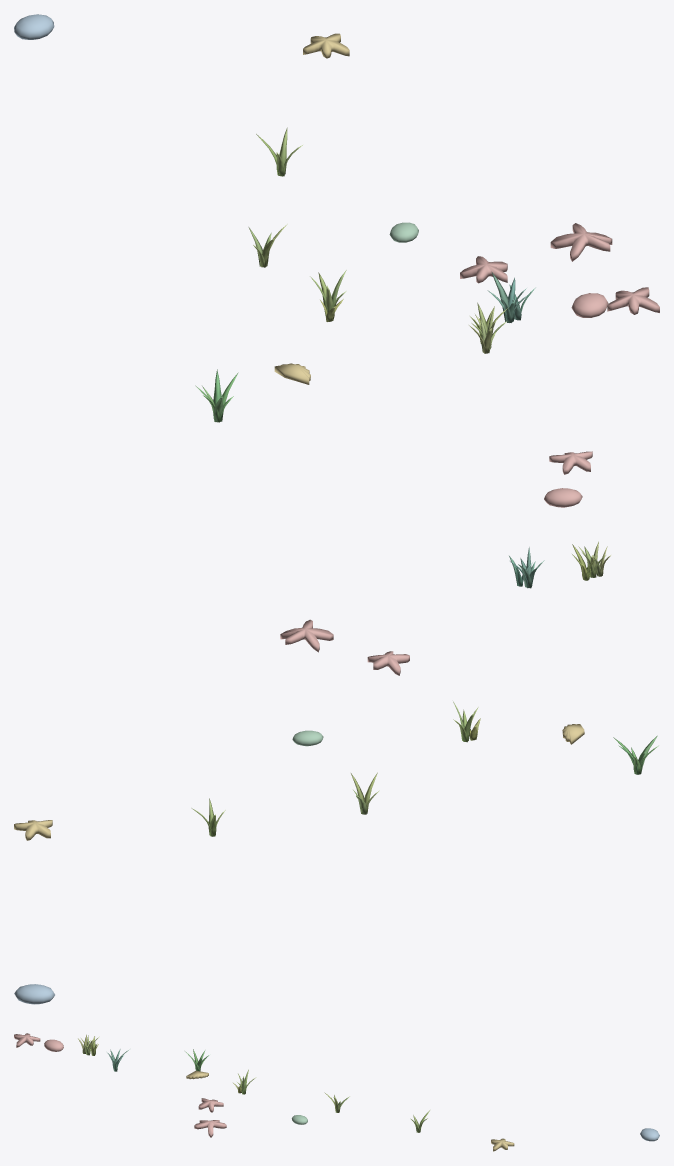
Rendered from W2_FloraRing_12_8.fbx.
3 views of the same model, one above another, from view 1: azimuth 30°, elevation 25°; view 2: azimuth 150°, elevation 25°; view 3: azimuth 270°, elevation 25° (orthographic). The views are drawn at different scales.
Parts seen in each view (by area): view 1: W2_FloraRing_12_8; view 2: W2_FloraRing_12_8; view 3: W2_FloraRing_12_8.
Boxes of the visible parts, <box> form: W2_FloraRing_12_8: <box>14,14,659,422</box>; W2_FloraRing_12_8: <box>14,451,658,1004</box>; W2_FloraRing_12_8: <box>14,1033,659,1151</box>.
Bounding box in the file's own units: 1.43 × 0.5971 × 3.52.
